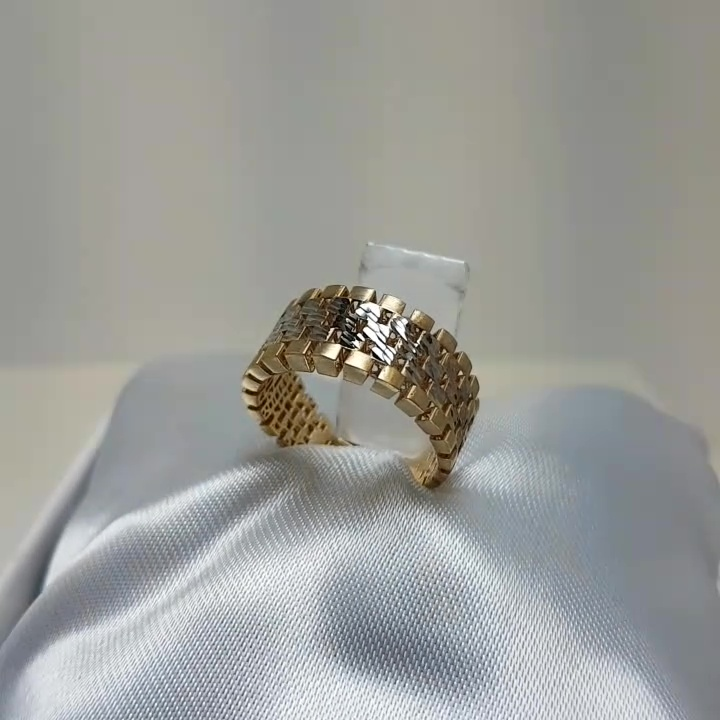Ring 1: (230, 265, 505, 530)
